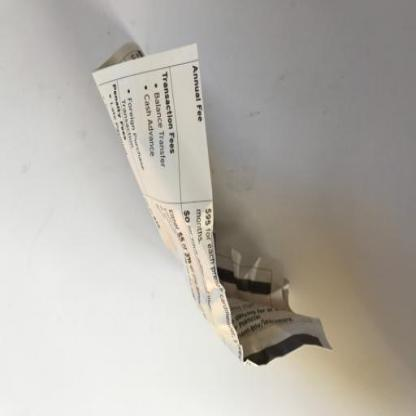trash: (90, 36, 335, 365)
